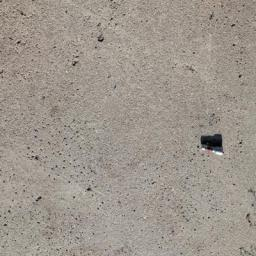FOD: (200, 133, 226, 159)
